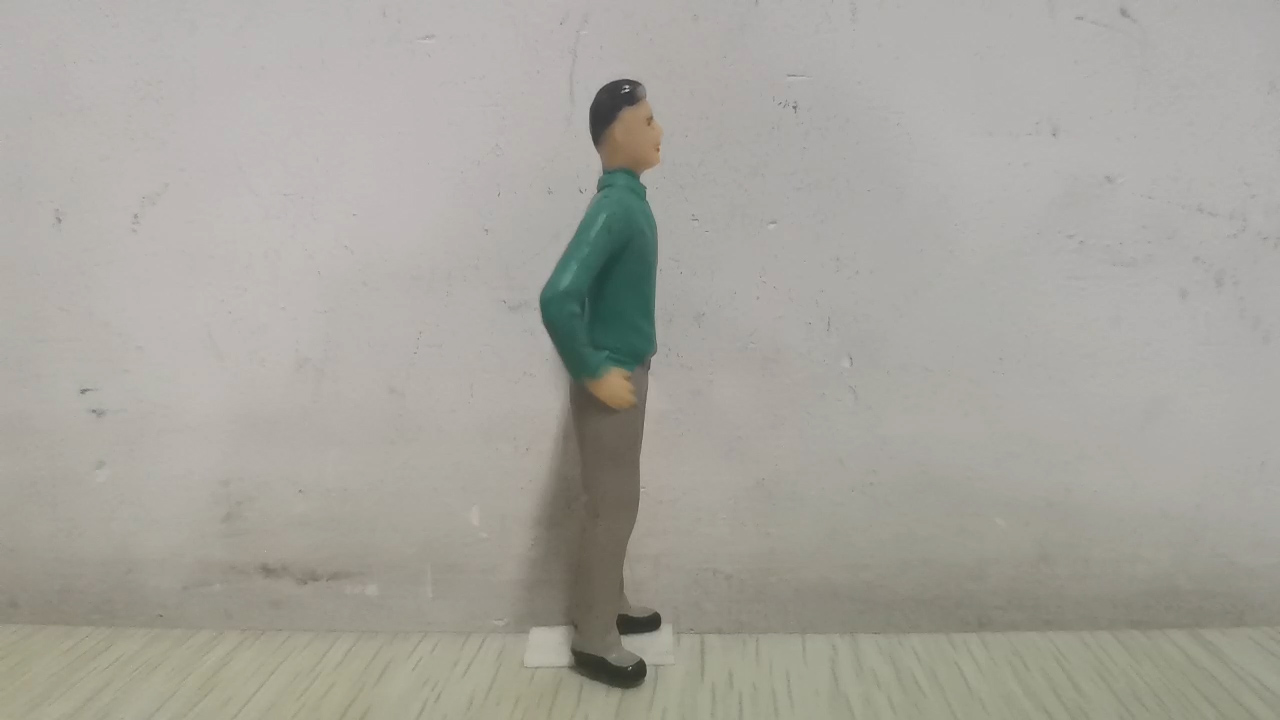person: (537, 77, 669, 688)
